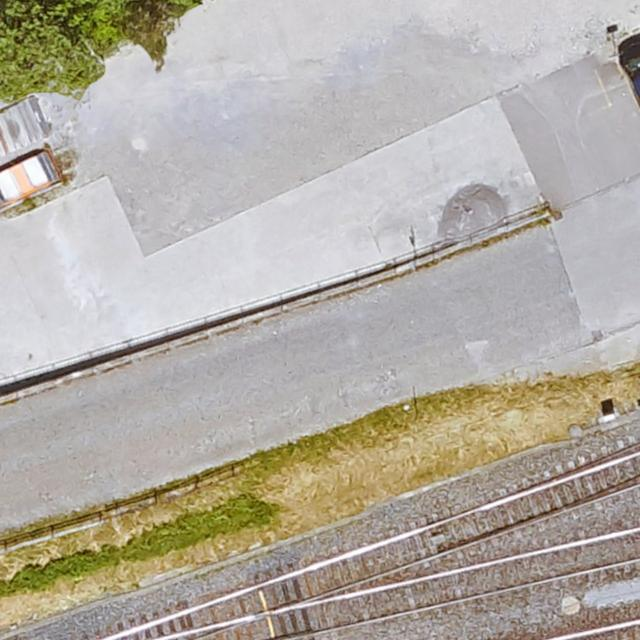tree: (0, 0, 117, 96), (111, 0, 201, 52)
